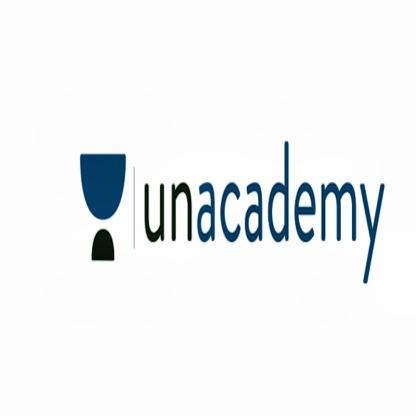Unacademy: (141, 140, 385, 291), (80, 153, 126, 260)
